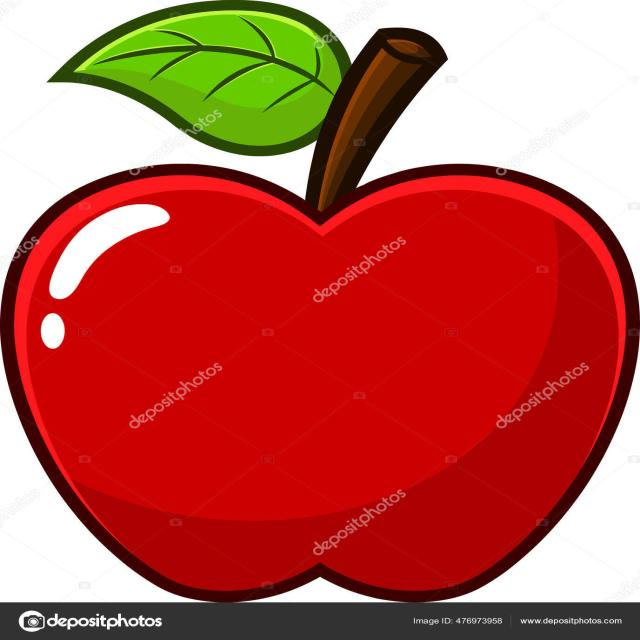manzana: (8, 126, 632, 599)
